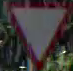Give way: (4, 3, 68, 68)
